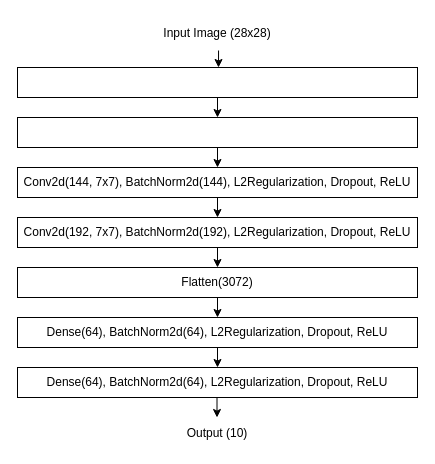
Some shapes in this 435 by 464 pixel diagram are drawn without their labels. Here are the shapes that lost their labels. From the top down, the centre of each, then its label:
At pixel 217 82: "Conv2d(48, 7x7), BatchNorm2d(48), L2Regularization, Dropout, ReLU".
At pixel 217 132: "Conv2d(96, 7x7), BatchNorm2d(96), L2Regularization, Dropout, ReLU".
